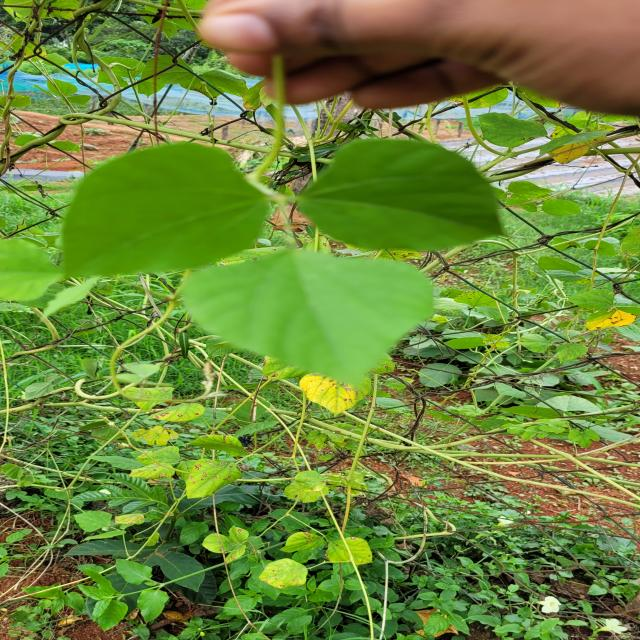Dolicos bean_healthy: (192, 250, 438, 388), (34, 142, 276, 280), (294, 139, 520, 252)
